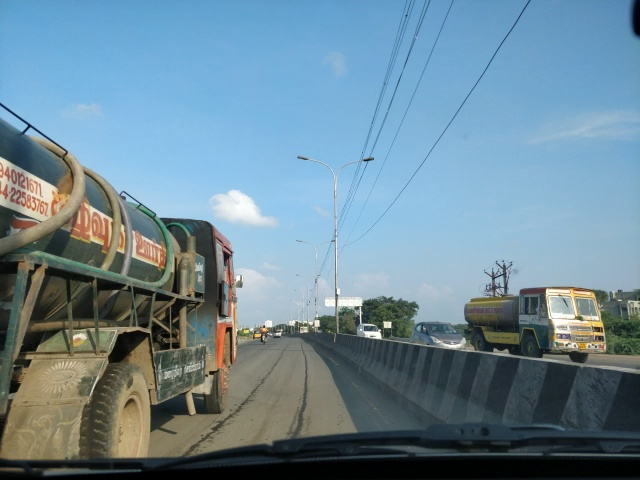car: (407, 317, 463, 356), (350, 315, 388, 345), (271, 323, 286, 345)
motorbike: (256, 322, 272, 344)
truck: (6, 89, 255, 463), (465, 261, 614, 370)
